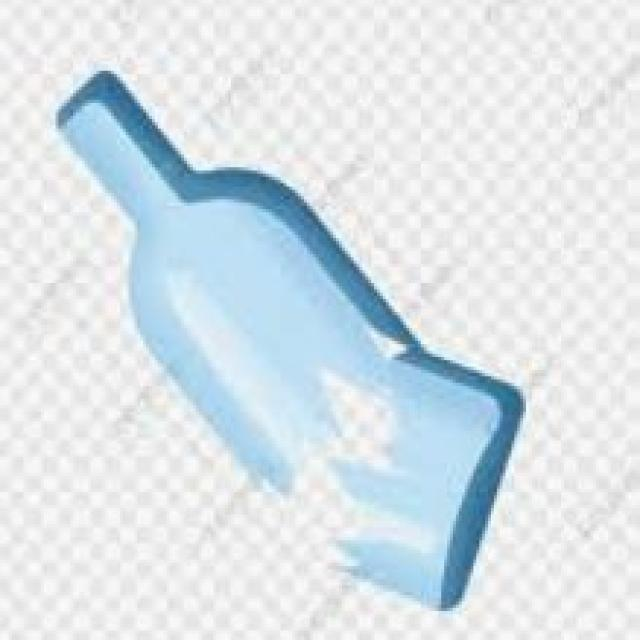electronic: (52, 66, 526, 614)
